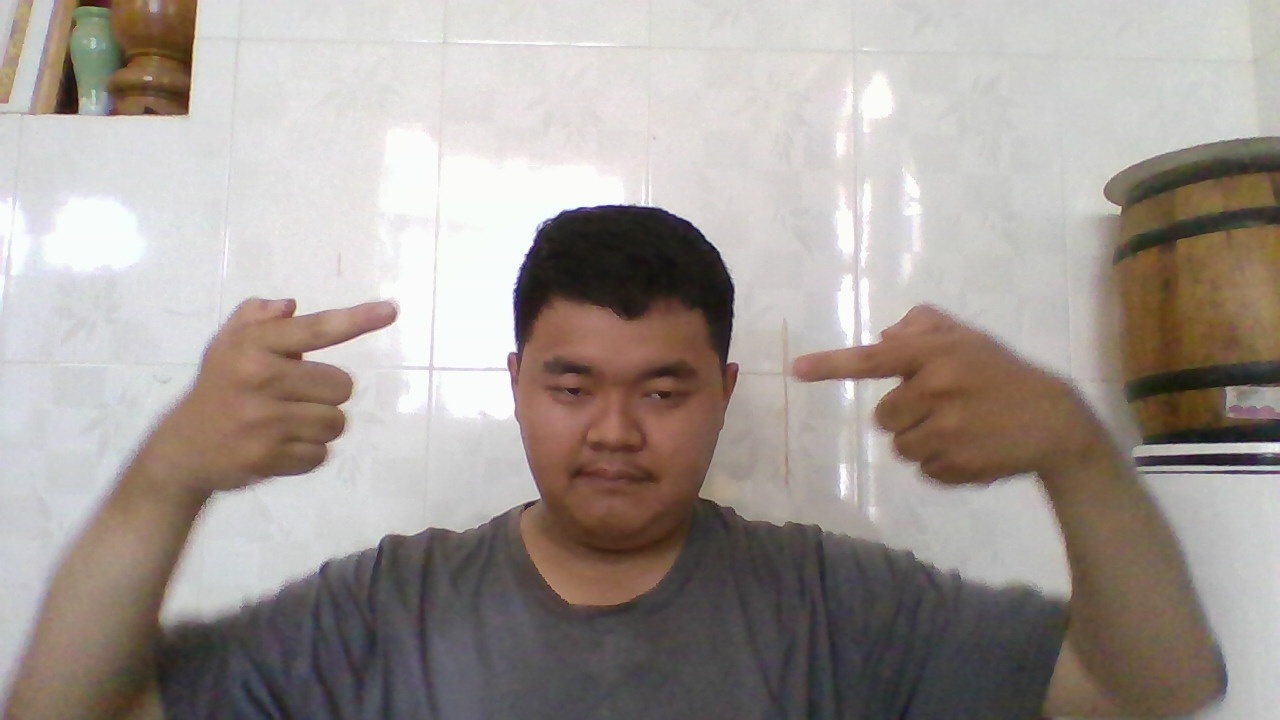G: (781, 314, 1085, 487), (154, 294, 408, 477)
